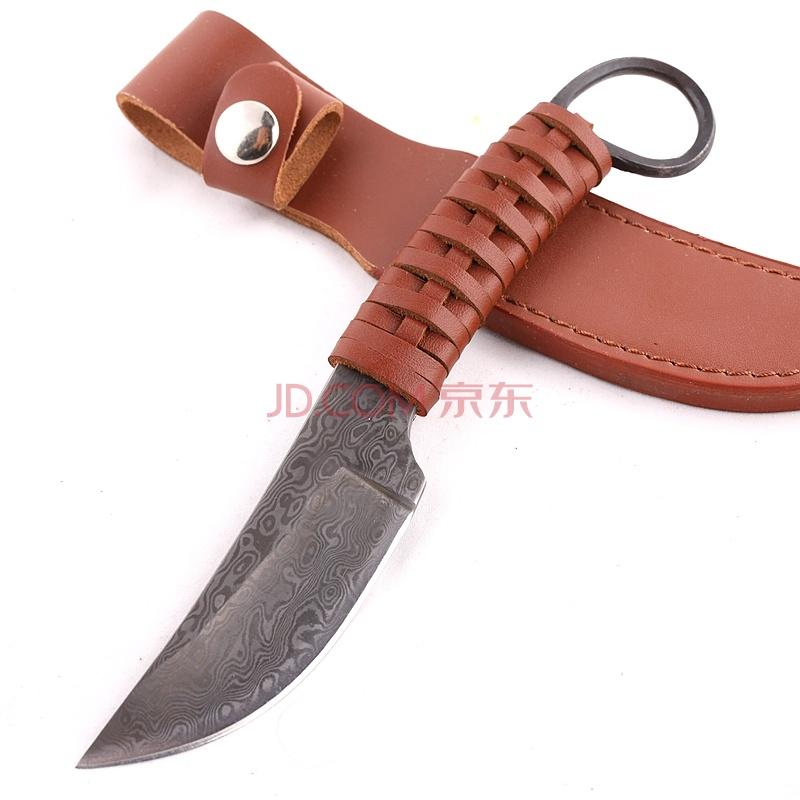knife: (16, 11, 772, 795)
